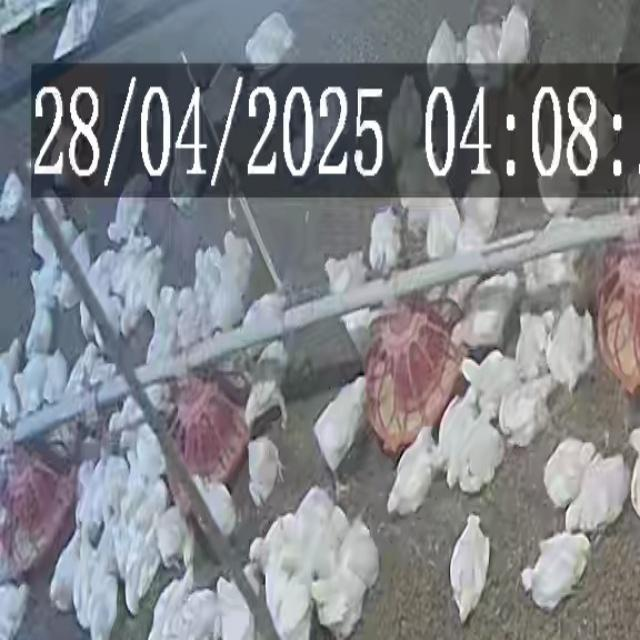chicken: (521, 530, 593, 612), (312, 376, 369, 479), (288, 97, 350, 188), (562, 452, 629, 534), (449, 273, 517, 352), (203, 230, 254, 333), (542, 303, 597, 395), (386, 428, 442, 516), (448, 514, 492, 624), (458, 350, 520, 420), (562, 98, 618, 175), (498, 375, 556, 449), (394, 134, 452, 207), (542, 437, 598, 511), (242, 343, 290, 428), (438, 385, 475, 490), (185, 478, 238, 548), (147, 567, 196, 640), (521, 243, 582, 301), (387, 71, 426, 161), (314, 572, 368, 637), (122, 249, 163, 334), (460, 417, 504, 496), (535, 140, 583, 212), (334, 518, 380, 593), (244, 12, 296, 74), (457, 166, 501, 236), (104, 176, 150, 242), (238, 291, 288, 350), (53, 1, 102, 61), (512, 312, 552, 384), (461, 21, 504, 86), (123, 537, 158, 616), (495, 2, 535, 69), (215, 577, 257, 638), (110, 385, 164, 432), (49, 536, 81, 615), (423, 23, 461, 89), (283, 491, 333, 541), (367, 205, 403, 273), (86, 575, 123, 640), (247, 436, 281, 506), (246, 518, 293, 568), (324, 248, 368, 296), (154, 506, 188, 568), (177, 591, 220, 640), (13, 357, 48, 416), (425, 205, 461, 261), (0, 583, 32, 640), (24, 306, 55, 358), (41, 347, 69, 402), (0, 169, 25, 221)
